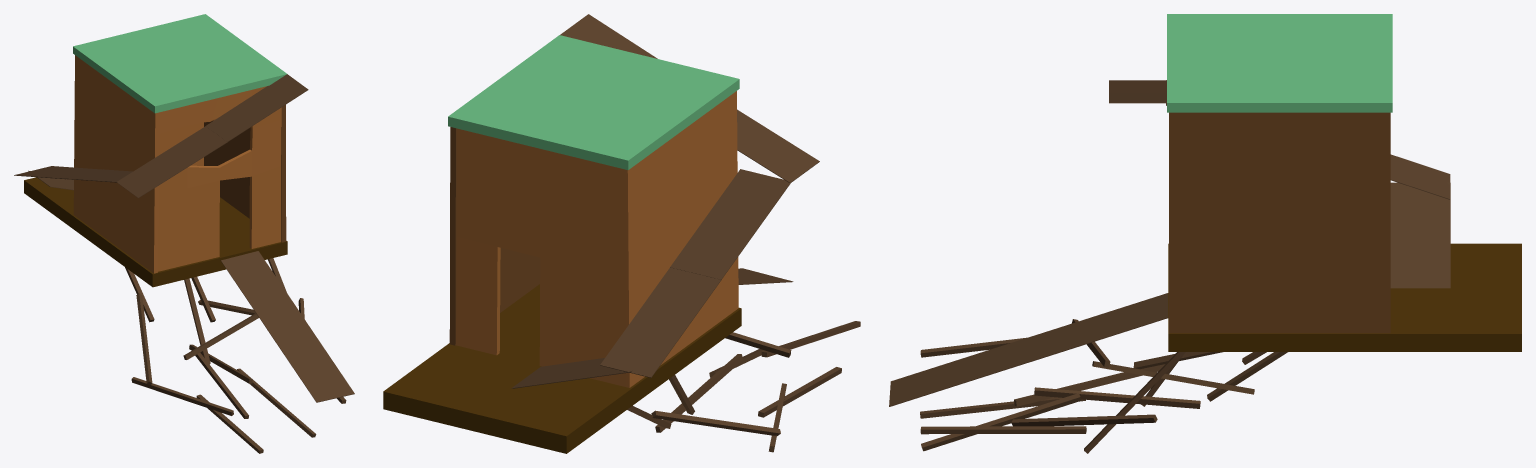
File: house_stilts.glb
3 views of the same model, side by side, from view 1: azimuth 30°, elevation 25°; view 2: azimuth 150°, elevation 25°; view 3: azimuth 270°, elevation 25° (orthographic). The views are drawn at different scales.
Visible parts, largest first — view 1: Cube; view 2: Cube; view 3: Cube.
Boxes of the visible parts, x1,y1,x2,y2 form: Cube: (14, 14, 354, 453); Cube: (383, 14, 860, 453); Cube: (889, 14, 1521, 453).
Bounding box in the file's own units: 7.56 × 11.36 × 16.6.
